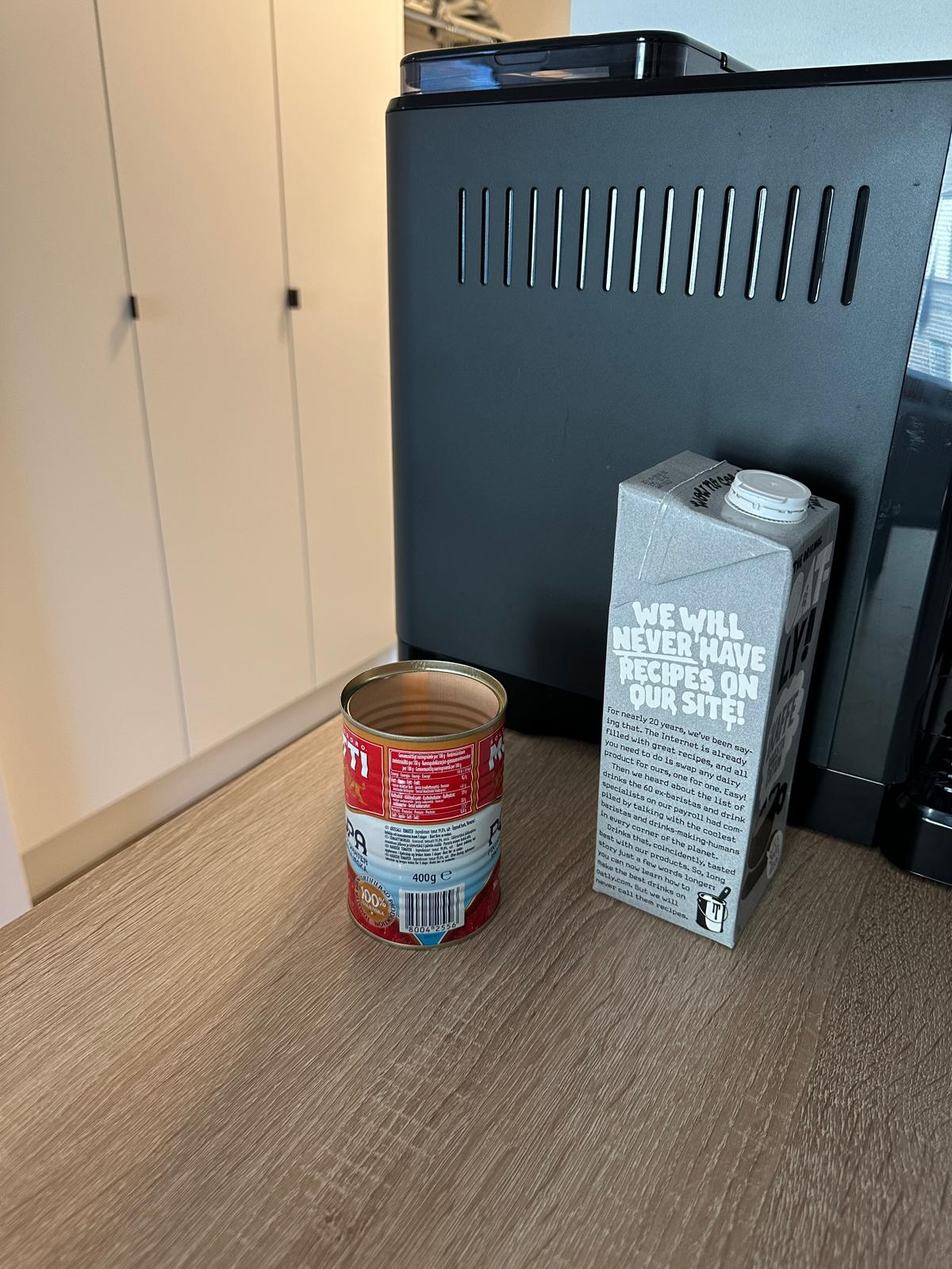Dryckeskartong: (592, 449, 840, 951)
Konservburk: (338, 660, 508, 950)
